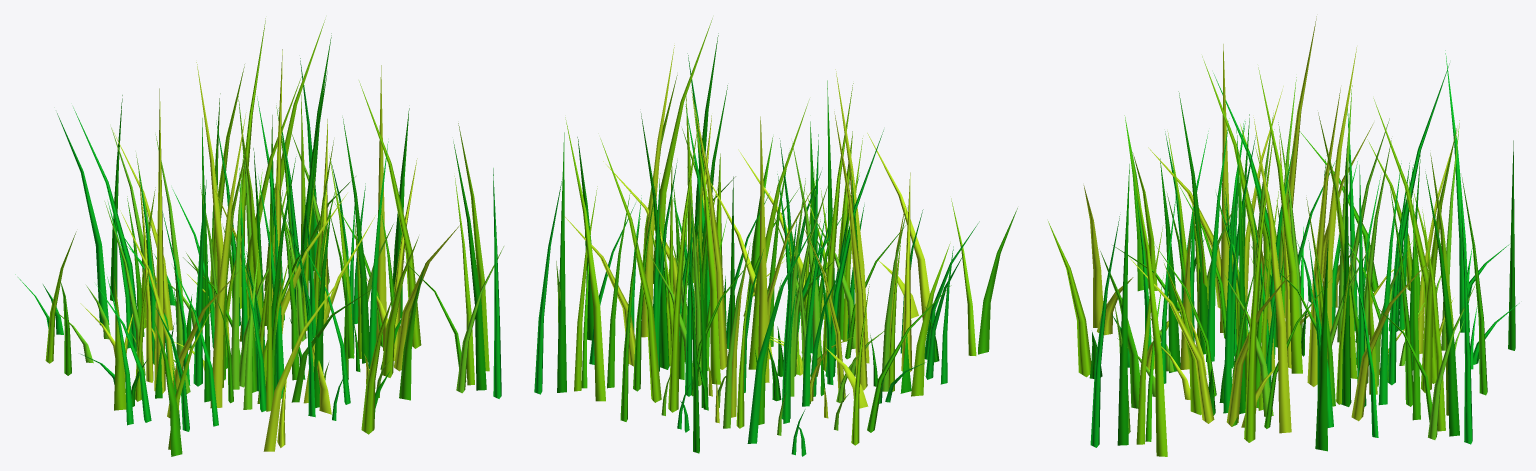
File: GrassLots.FBX
The picture shows the model from 3 angles, left to right: view 1: azimuth 30°, elevation 25°; view 2: azimuth 150°, elevation 25°; view 3: azimuth 270°, elevation 25°; orthographic projection. The views are drawn at different scales.
Visible parts, largest first — view 1: Cone123, Cone138, Cone163, Cone175, Cone171, Cone173, Cone157, Cone150, Cone048, Cone164, Cone166, Cone090 (+59 smaller); view 2: Cone044, Cone009, Cone138, Cone005, Cone074, Cone086, Cone004, Cone040, Cone173, Cone048, Cone152, Cone130 (+50 smaller); view 3: Cone173, Cone166, Cone175, Cone152, Cone163, Cone005, Cone004, Cone086, Cone070, Cone040, Cone039, Cone048 (+61 smaller).
Part boxes in pixels (left/top/right/bottom): Cone123: left=210, top=112, right=246, bottom=408; Cone138: left=154, top=88, right=165, bottom=393; Cone163: left=453, top=141, right=486, bottom=390; Cone175: left=359, top=81, right=421, bottom=348; Cone171: left=342, top=117, right=369, bottom=363; Cone173: left=376, top=65, right=386, bottom=339; Cone157: left=231, top=151, right=243, bottom=389; Cone150: left=263, top=271, right=345, bottom=451; Cone048: left=57, top=113, right=109, bottom=325; Cone164: left=493, top=168, right=501, bottom=398; Cone166: left=458, top=123, right=489, bottom=371; Cone090: left=193, top=180, right=206, bottom=386; Cone044: left=565, top=117, right=605, bottom=401; Cone009: left=668, top=124, right=698, bottom=412; Cone138: left=834, top=111, right=867, bottom=390; Cone005: left=691, top=88, right=727, bottom=369; Cone074: left=692, top=97, right=720, bottom=384; Cone086: left=600, top=138, right=661, bottom=402; Cone004: left=557, top=132, right=566, bottom=392; Cone040: left=758, top=116, right=769, bottom=382; Cone173: left=641, top=45, right=674, bottom=337; Cone048: left=747, top=219, right=817, bottom=443; Cone152: left=748, top=99, right=809, bottom=369; Cone130: left=822, top=83, right=853, bottom=371; Cone173: left=1253, top=117, right=1291, bottom=433; Cone166: left=1129, top=146, right=1167, bottom=456; Cone175: left=1244, top=129, right=1274, bottom=442; Cone152: left=1258, top=67, right=1302, bottom=373; Cone163: left=1117, top=164, right=1129, bottom=445; Cone005: left=1307, top=88, right=1340, bottom=386; Cone004: left=1425, top=171, right=1459, bottom=436; Cone086: left=1420, top=128, right=1456, bottom=392; Cone070: left=1315, top=240, right=1328, bottom=451; Cone040: left=1323, top=47, right=1356, bottom=331; Cone039: left=1341, top=148, right=1351, bottom=406; Cone048: left=1445, top=50, right=1469, bottom=332.
Size of the model in its own units: 9.26 by 7.08 by 9.79.
